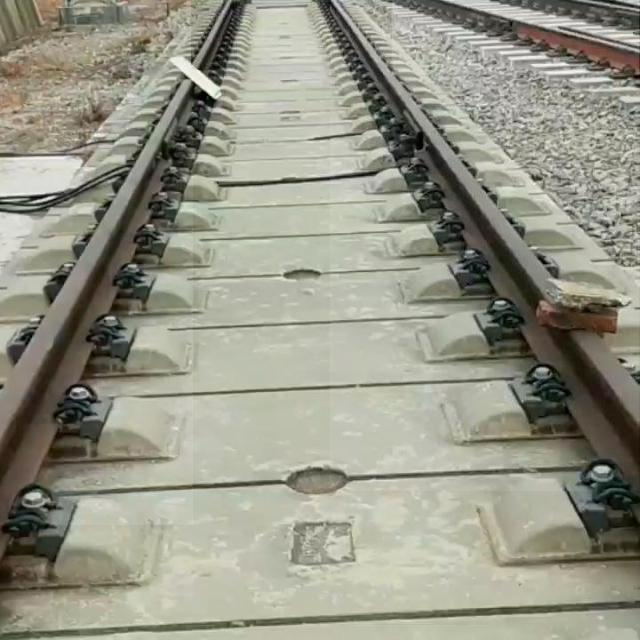rail: (332, 1, 640, 492), (2, 80, 194, 526), (394, 1, 640, 76), (510, 1, 640, 28), (193, 1, 238, 71)
